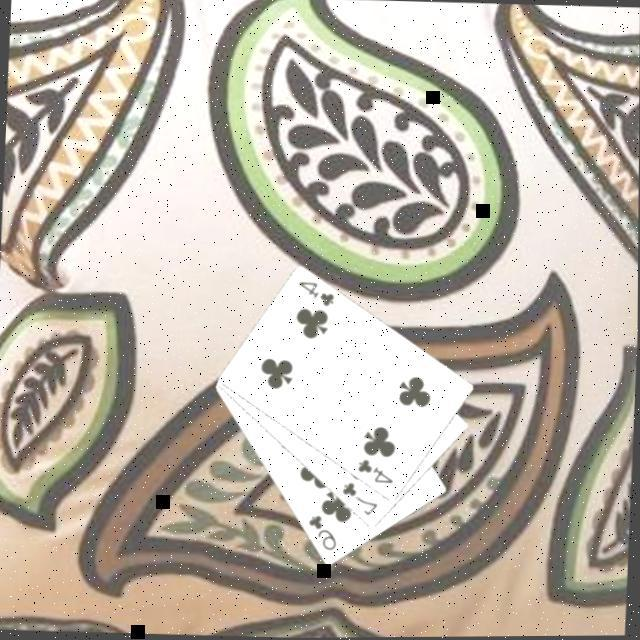4C: (352, 454, 397, 486), (293, 276, 337, 308)
7C: (337, 477, 381, 518)
9C: (303, 510, 340, 553)
